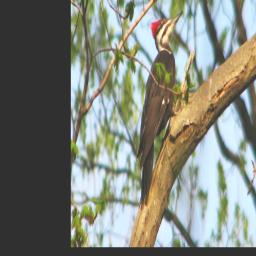Woodpecker: (135, 6, 186, 211)
